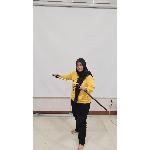Pedang: (48, 70, 85, 88)
